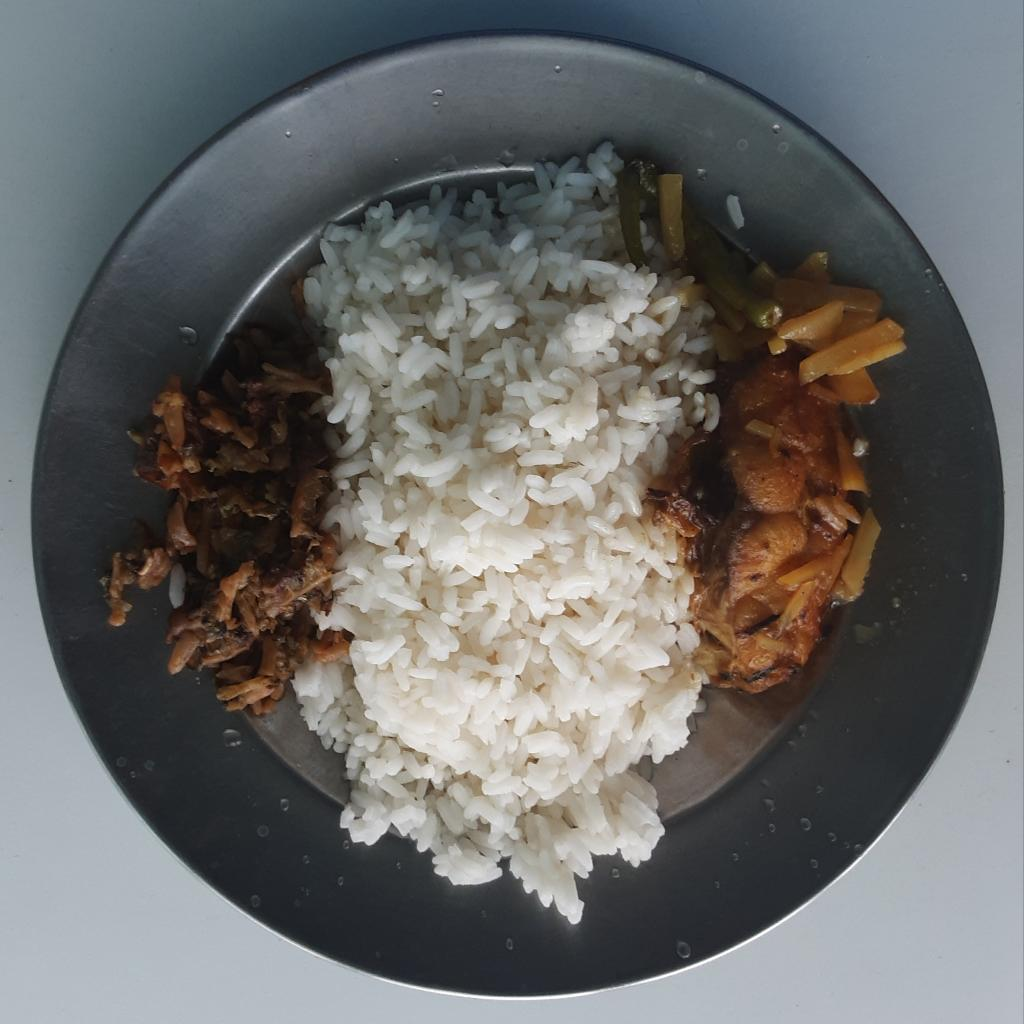fish: (671, 362, 846, 693)
korola-vaji: (110, 330, 357, 715)
potato: (654, 166, 909, 637)
rice: (295, 136, 765, 922), (724, 187, 747, 229)
